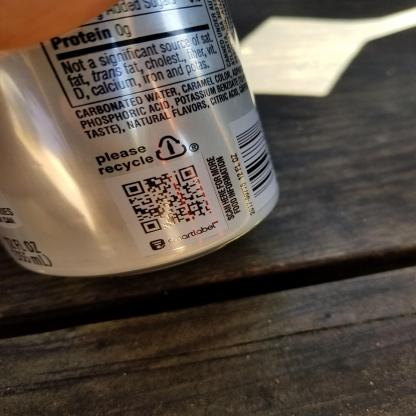barcode: (232, 118, 278, 198)
qr: (121, 161, 213, 238)
